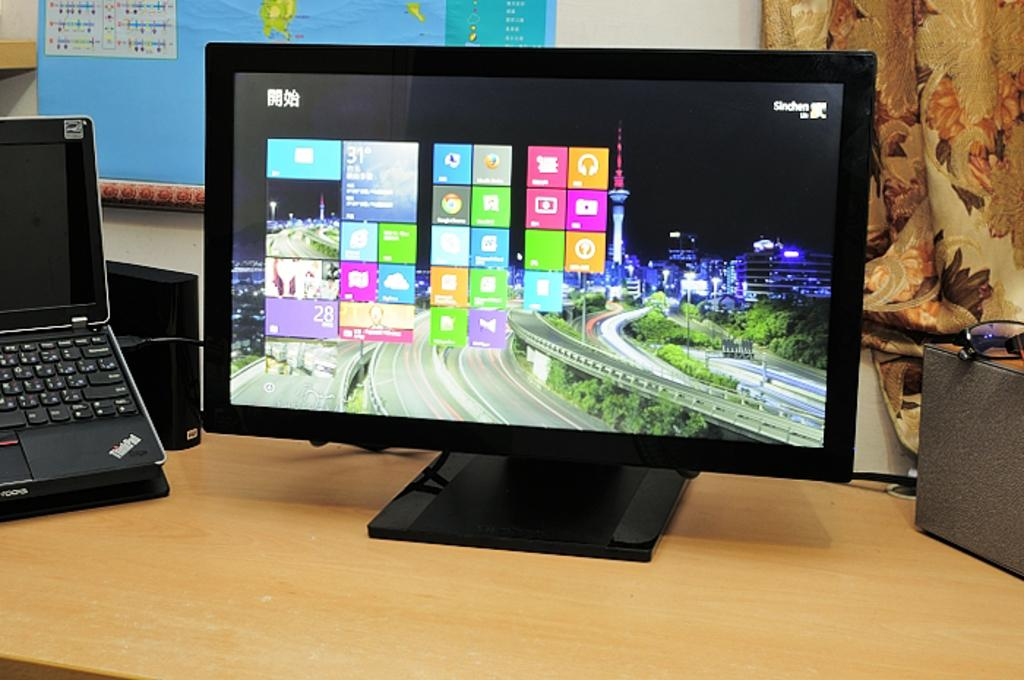Computer-mouse: (196, 37, 879, 562)
Laptop: (0, 114, 170, 522)
